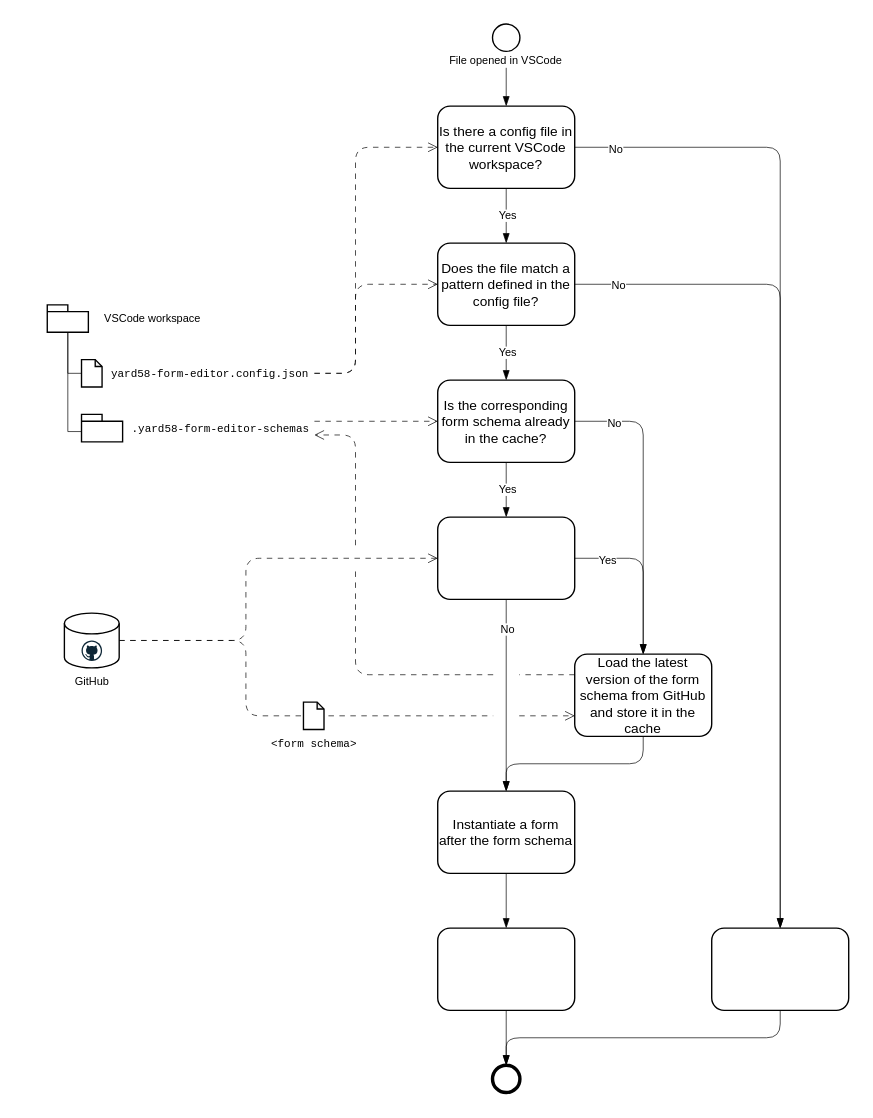
Some shapes in this 873 by 1118 pixel diagram are drawn without their labels. The shapes that lost their labels are listed below. From the top down, each one's centre as x and y in pixels, then its label:
At point (505, 557): "Is there a newer version of the form schema?".
At point (505, 968): "Edit the file in the form".
At point (779, 968): "Edit the file in the regular VSCode text editor".
